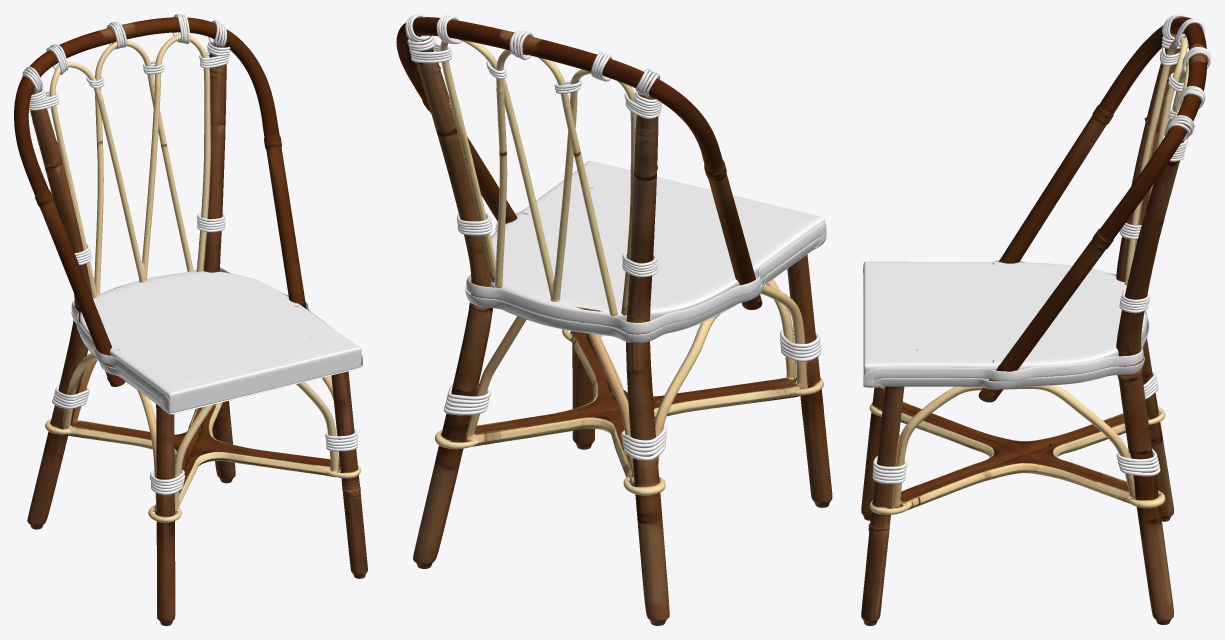
The model's file is harpe-bourdon.glb.
3 views of the same model, side by side, from view 1: azimuth 30°, elevation 25°; view 2: azimuth 150°, elevation 25°; view 3: azimuth 270°, elevation 25° (orthographic). The views are drawn at different scales.
Parts seen in each view (by area): view 1: mesh_structure, mesh_tressage, mesh_laniere; view 2: mesh_structure, mesh_tressage, mesh_laniere; view 3: mesh_structure, mesh_tressage, mesh_laniere.
Part boxes in pixels (left/top/right/bottom): mesh_structure: left=14, top=17, right=367, bottom=625; mesh_tressage: left=79, top=271, right=361, bottom=413; mesh_laniere: left=22, top=14, right=362, bottom=494; mesh_structure: left=396, top=17, right=832, bottom=625; mesh_tressage: left=490, top=161, right=824, bottom=335; mesh_laniere: left=405, top=14, right=826, bottom=460; mesh_structure: left=861, top=17, right=1207, bottom=625; mesh_tressage: left=863, top=261, right=1146, bottom=386; mesh_laniere: left=863, top=14, right=1210, bottom=483.
Size of the model in its own units: 0.5059 by 0.9058 by 0.549.
3 materials, 1 textured.
